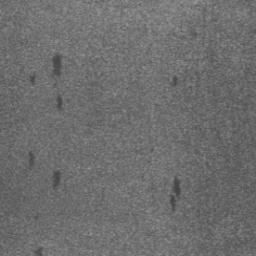Iron scale compression: (53, 53, 62, 78), (53, 171, 60, 188), (174, 178, 180, 195), (170, 76, 178, 88), (29, 152, 35, 168), (56, 96, 62, 109), (30, 76, 35, 85)
